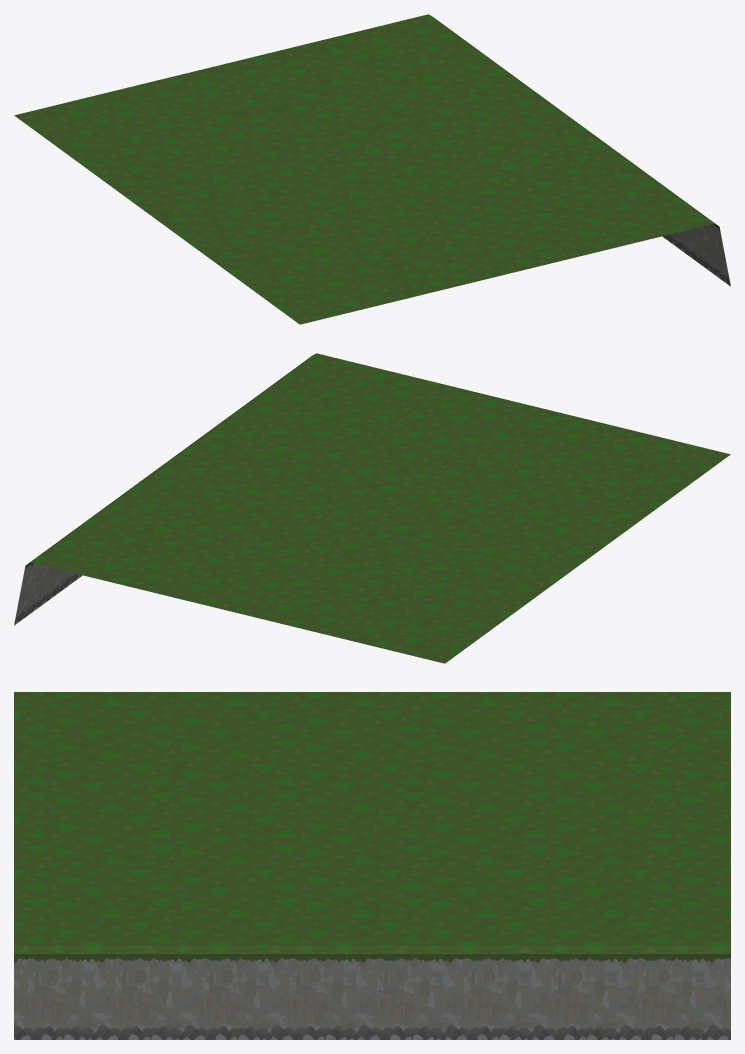
File: chunk_0005.glb
3 renders of one model, top to bottom at view 1: azimuth 30°, elevation 25°; view 2: azimuth 150°, elevation 25°; view 3: azimuth 270°, elevation 25°, orthographic. The views are drawn at different scales.
Parts seen in each view (by area): view 1: chunk_0005; view 2: chunk_0005; view 3: chunk_0005.
Boxes of the visible parts, left/top/right/bottom form: chunk_0005: left=14, top=14, right=730, bottom=324; chunk_0005: left=14, top=353, right=730, bottom=663; chunk_0005: left=14, top=692, right=730, bottom=1039.
Size of the model in its own units: 8.7 by 1.3 by 10.
Materials: 2 (2 with a texture image).
